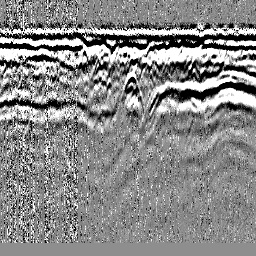cavity: (114, 70, 145, 121)
